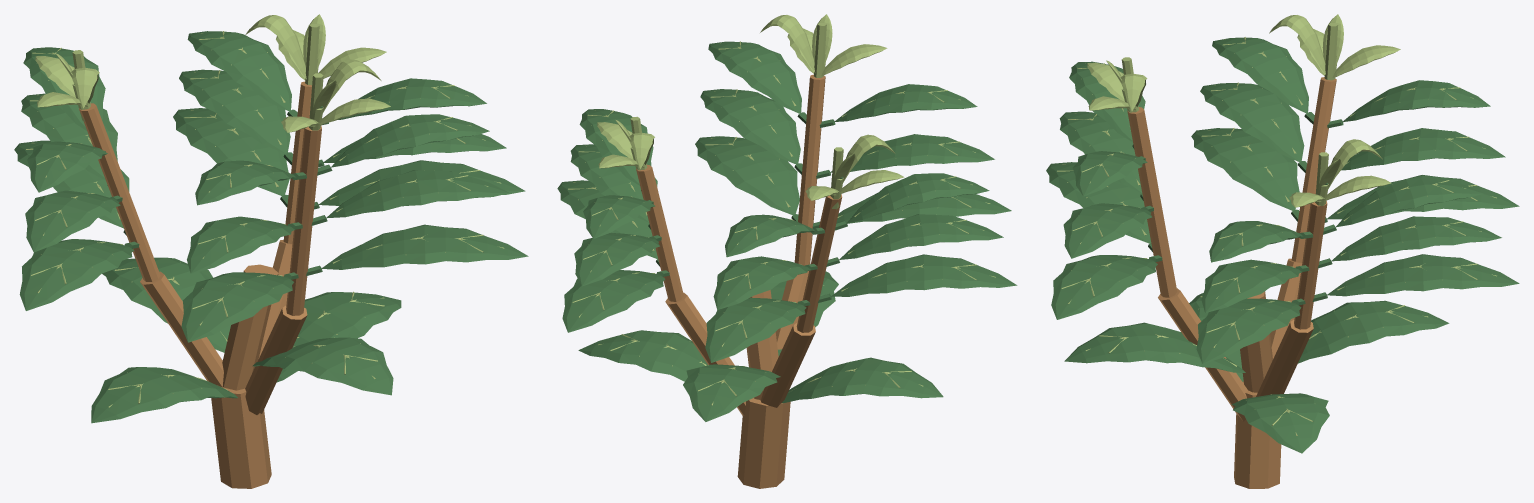
File: SM_TeaMocCau.fbx
The picture shows the model from 3 angles, left to right: view 1: azimuth 30°, elevation 25°; view 2: azimuth 150°, elevation 25°; view 3: azimuth 270°, elevation 25°; orthographic projection. The views are drawn at different scales.
Parts seen in each view (by area): view 1: FoliageRoot, ReadyAccents; view 2: FoliageRoot, ReadyAccents; view 3: FoliageRoot, ReadyAccents.
Boxes of the visible parts, <box> form: FoliageRoot: <box>14,31,528,488</box>; ReadyAccents: <box>35,14,390,132</box>; FoliageRoot: <box>557,41,1017,488</box>; ReadyAccents: <box>597,14,904,200</box>; FoliageRoot: <box>1046,37,1519,488</box>; ReadyAccents: <box>1087,14,1400,207</box>.
Bounding box in the file's own units: 0.9 × 0.78 × 0.7882.
